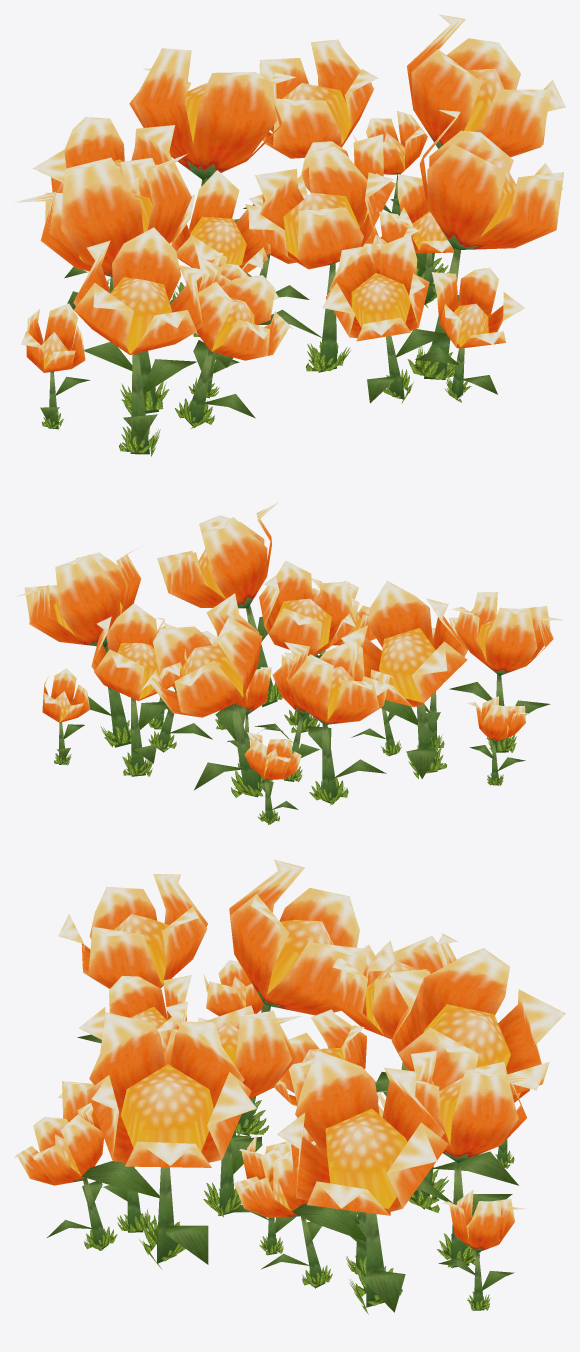
The model's file is obj_macoprfl03-02.glb.
The picture shows the model from 3 angles, top to bottom: view 1: azimuth 30°, elevation 25°; view 2: azimuth 150°, elevation 25°; view 3: azimuth 270°, elevation 25°; orthographic projection. The views are drawn at different scales.
Visible parts, largest first — view 1: part_0; view 2: part_0; view 3: part_0.
Boxes of the visible parts, x1,y1,x2,y2 form: part_0: (14, 14, 565, 456); part_0: (15, 502, 564, 824); part_0: (14, 859, 565, 1314).
Bounding box in the file's own units: 1.62 × 0.6755 × 1.25.
2 materials, 2 textured.
